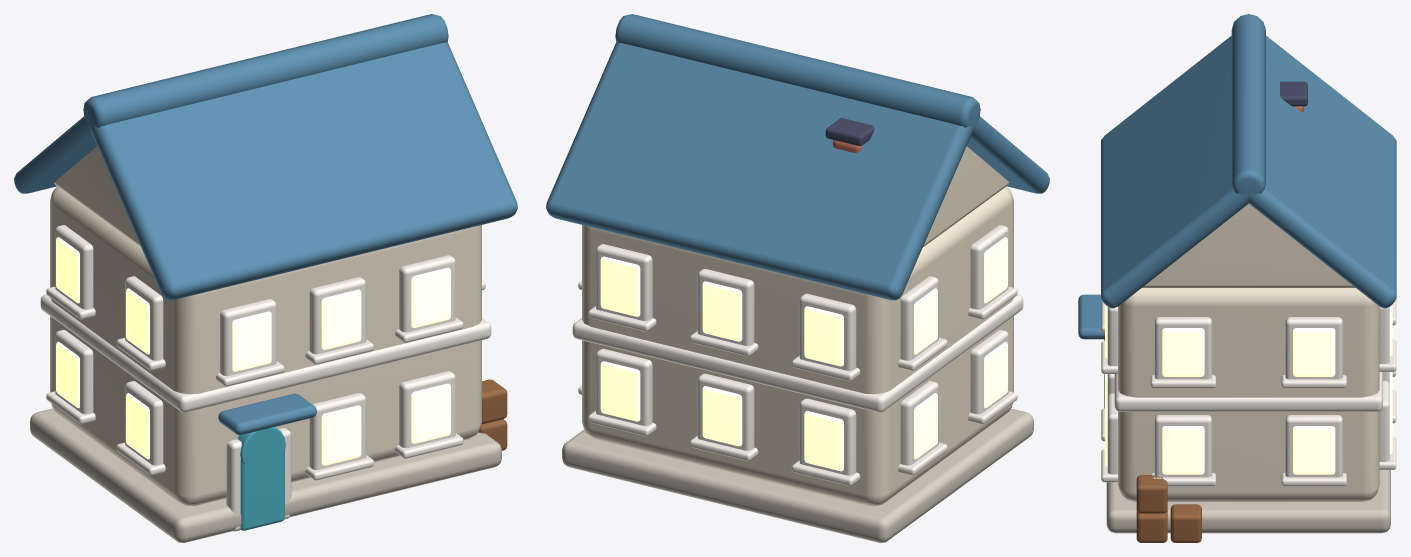
The picture shows the model from 3 angles, left to right: view 1: azimuth 30°, elevation 25°; view 2: azimuth 150°, elevation 25°; view 3: azimuth 270°, elevation 25°; orthographic projection. The views are drawn at different scales.
Parts seen in each view (by area): view 1: Cube; view 2: Cube; view 3: Cube.
Boxes of the visible parts, box(x1,y1,x2,y2) form: Cube: box(14, 14, 517, 542); Cube: box(546, 14, 1049, 542); Cube: box(1078, 14, 1396, 542).
Size of the model in its own units: 0.6825 by 0.7175 by 0.5602.
